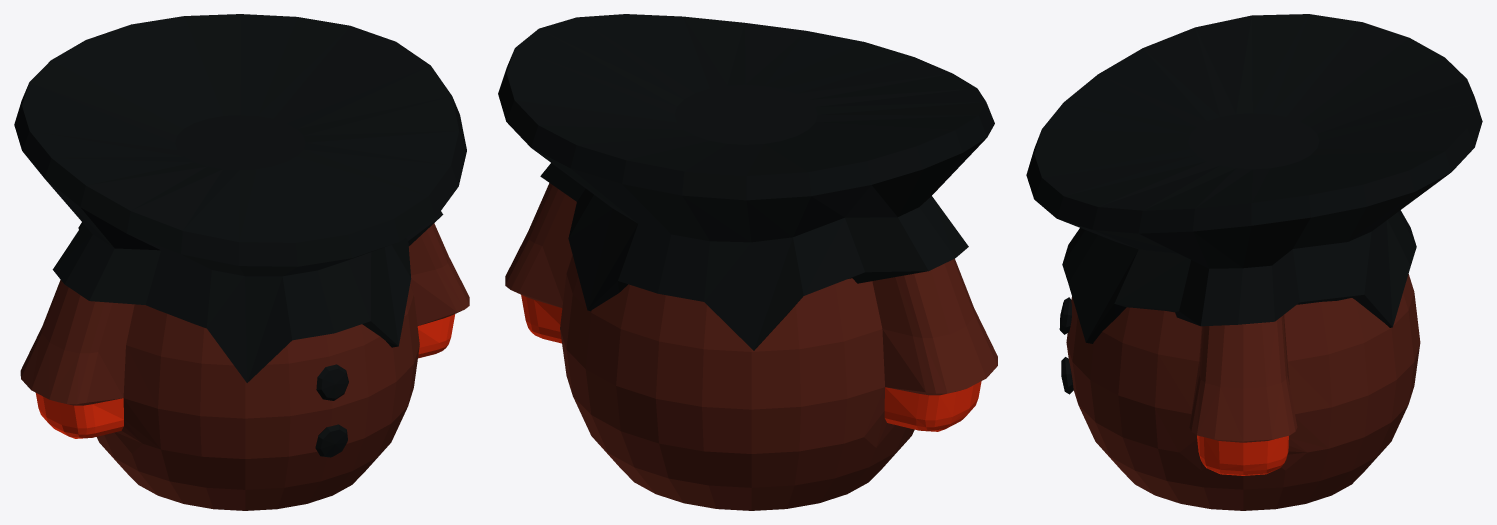
Rendered from character_jack.obj.
The picture shows the model from 3 angles, left to right: view 1: azimuth 30°, elevation 25°; view 2: azimuth 150°, elevation 25°; view 3: azimuth 270°, elevation 25°; orthographic projection. The views are drawn at different scales.
Visible parts, largest first — view 1: character_jack_Cube.028; view 2: character_jack_Cube.028; view 3: character_jack_Cube.028.
Part boxes in pixels (x1,y1,x2,y2): character_jack_Cube.028: [14, 14, 469, 510]; character_jack_Cube.028: [498, 14, 997, 510]; character_jack_Cube.028: [1026, 14, 1482, 510].
Bounding box in the file's own units: 0.9909 × 0.776 × 0.9023.
